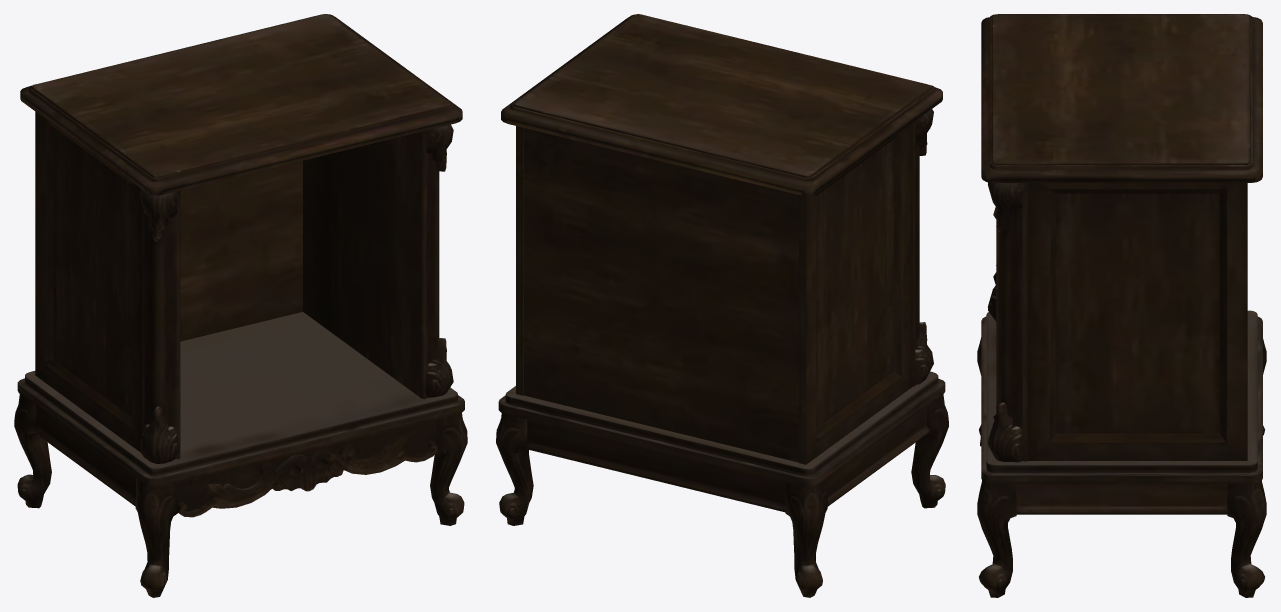
Rendered from ClassicNightstand_01.glb.
3 views of the same model, side by side, from view 1: azimuth 30°, elevation 25°; view 2: azimuth 150°, elevation 25°; view 3: azimuth 270°, elevation 25° (orthographic). The views are drawn at different scales.
Parts seen in each view (by area): view 1: ClassicNightstand_01; view 2: ClassicNightstand_01; view 3: ClassicNightstand_01.
Boxes of the visible parts, x1,y1,x2,y2 form: ClassicNightstand_01: (14,14,467,597); ClassicNightstand_01: (496,14,948,597); ClassicNightstand_01: (977,14,1266,597).
Bounding box in the file's own units: 0.5678 × 0.7 × 0.4242.
1 material, 1 textured.
